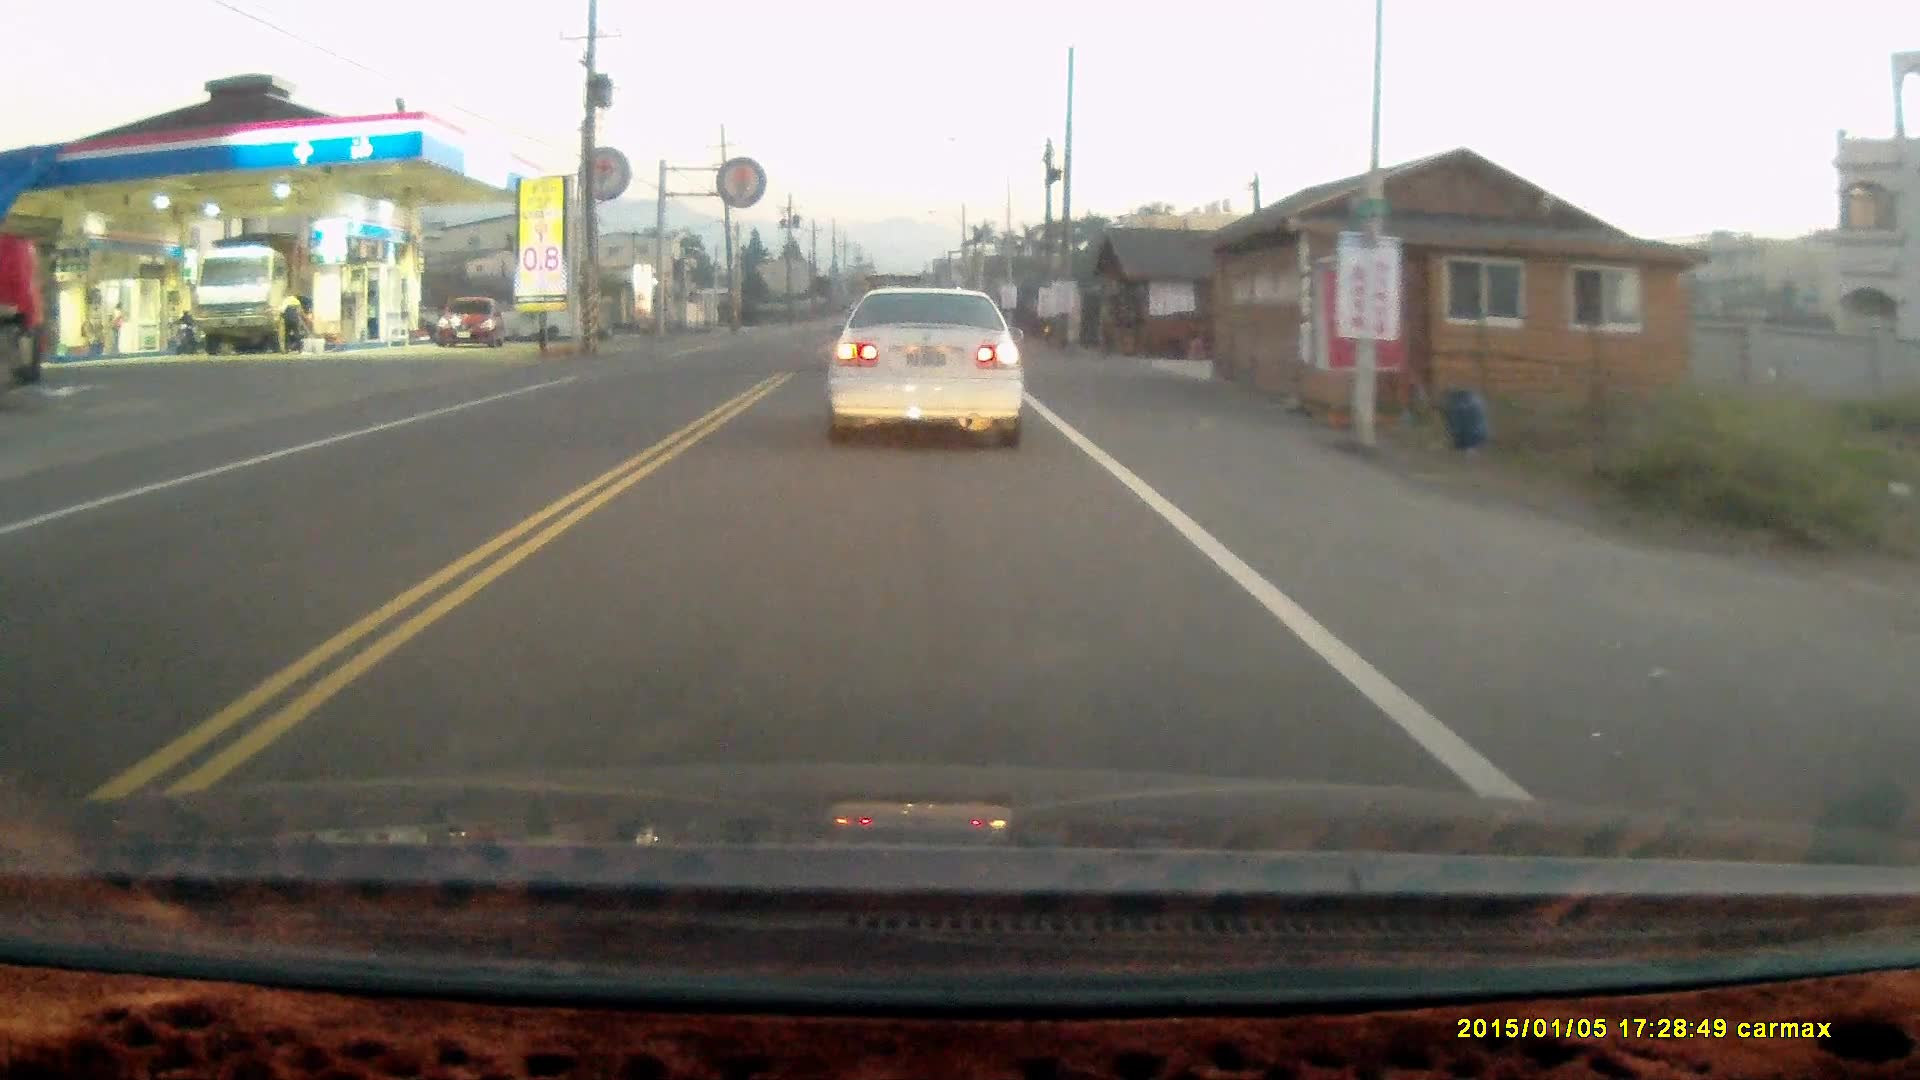pedestrian: (273, 287, 302, 351)
vehicle: (821, 282, 1030, 450), (193, 240, 312, 355), (438, 296, 513, 351)
